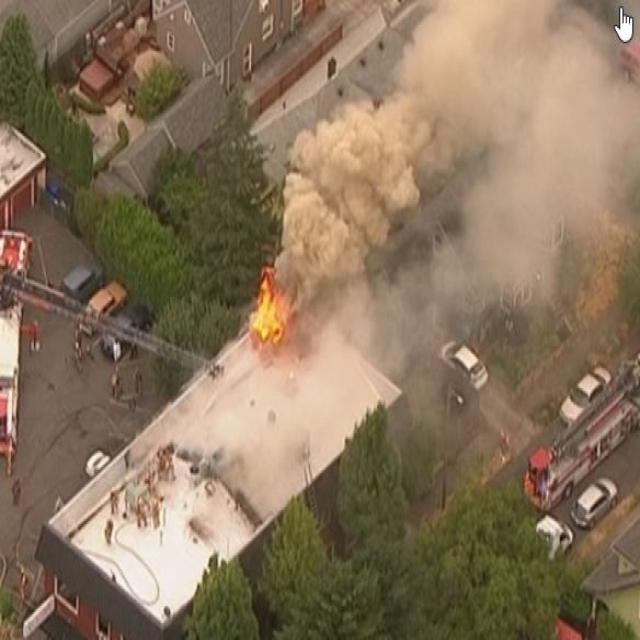Fire: (254, 263, 307, 360)
Smoke: (280, 0, 640, 325)
